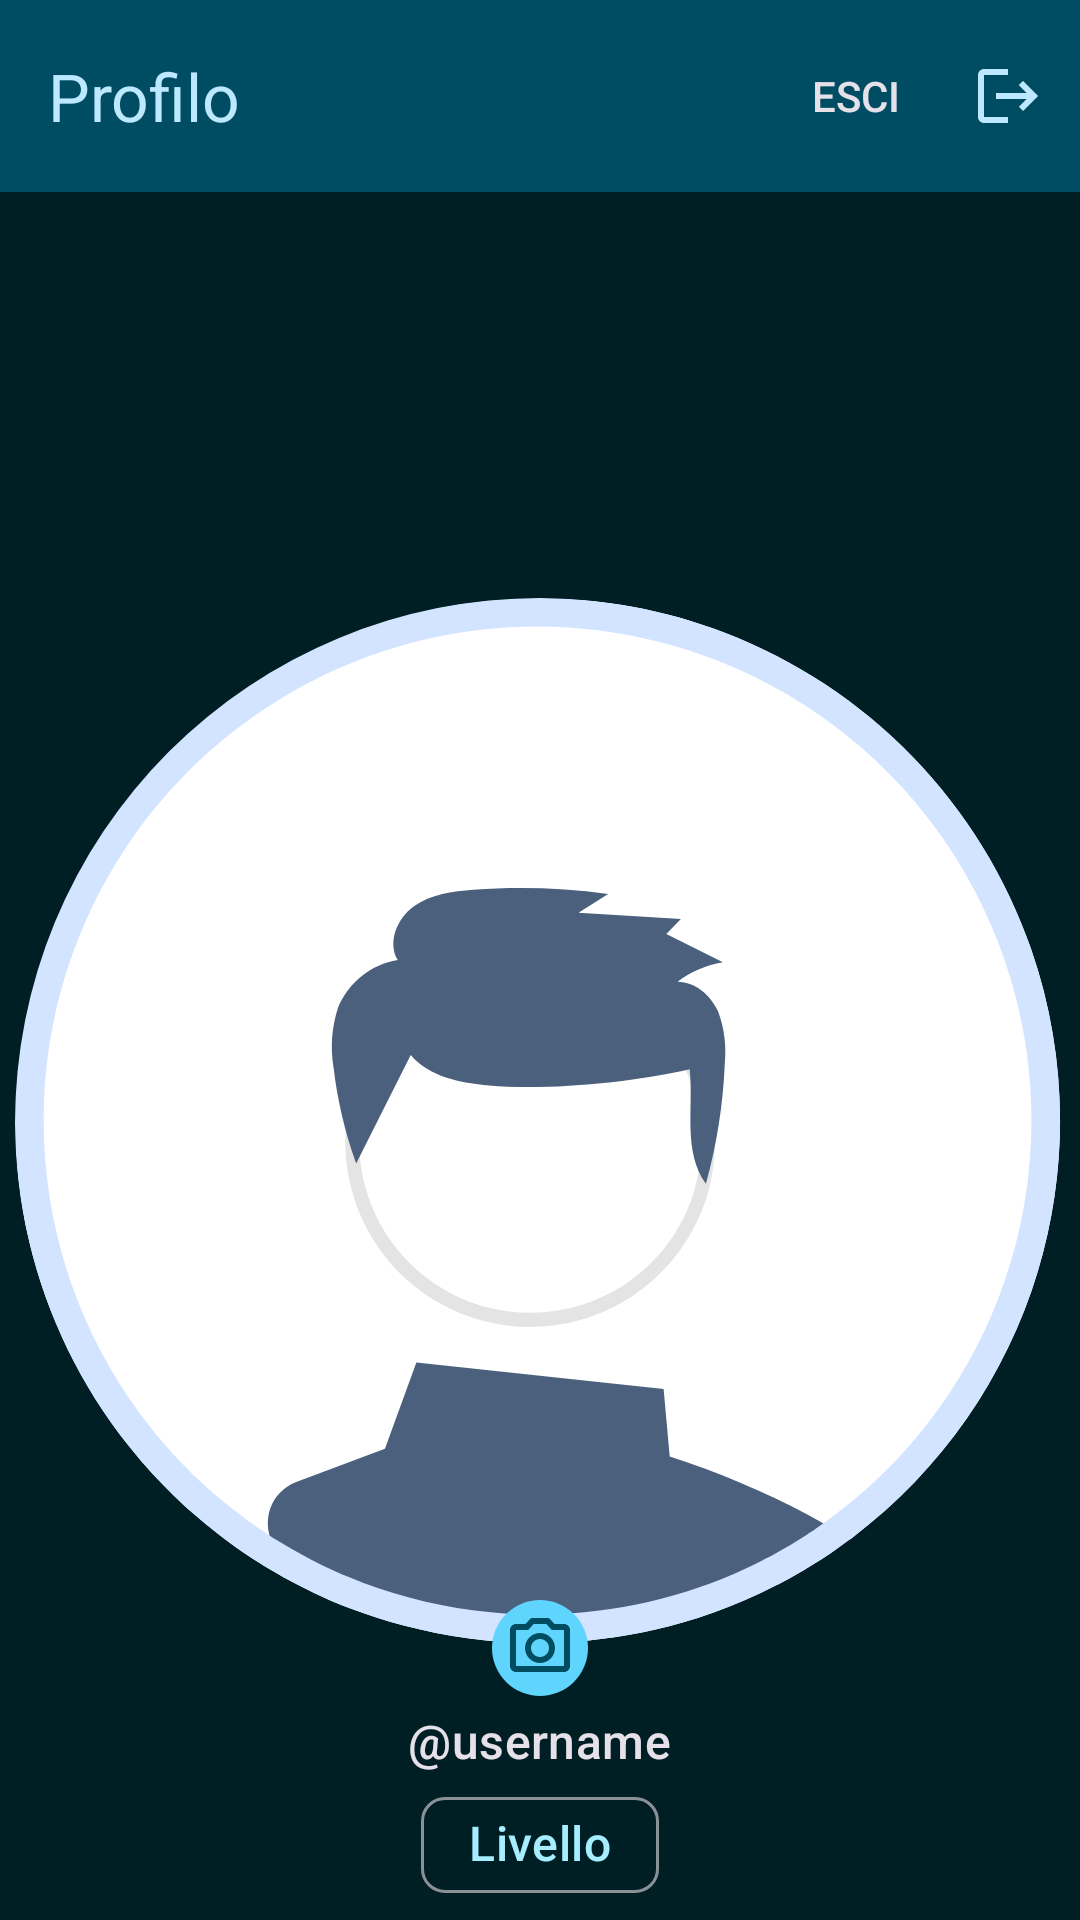

Where to tap for icons on this 1080*1920 app screen, as (x,y):
camera: (540,1648)
